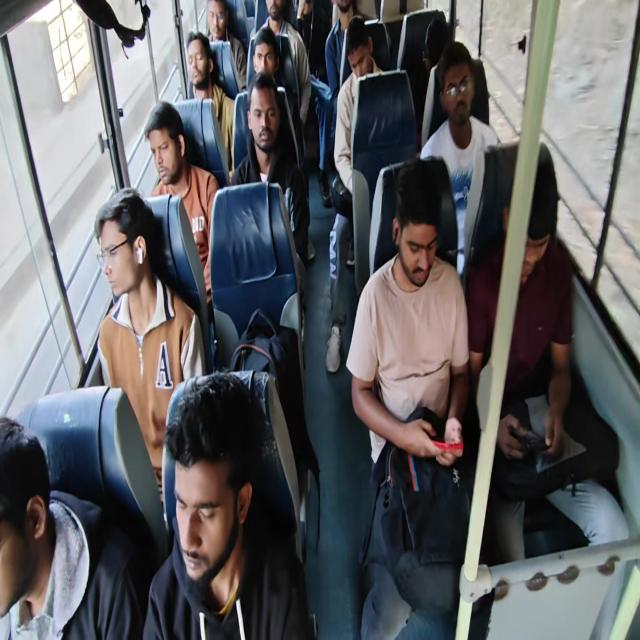person: (178, 393, 246, 580), (0, 435, 65, 626), (496, 159, 555, 299), (91, 214, 152, 305), (401, 186, 437, 291), (439, 39, 477, 129), (144, 112, 190, 179), (244, 96, 285, 162), (417, 12, 451, 77), (346, 8, 370, 81), (245, 41, 282, 82), (201, 0, 229, 44), (265, 0, 290, 31), (334, 0, 356, 18)
